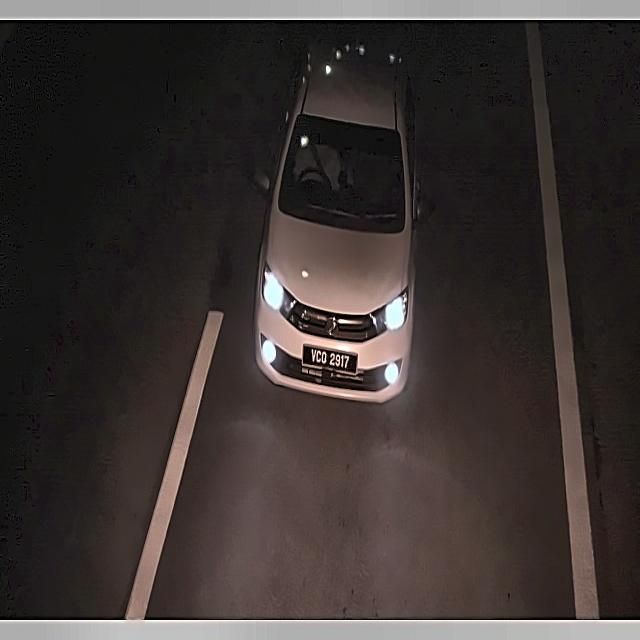car: (302, 343, 358, 376)
